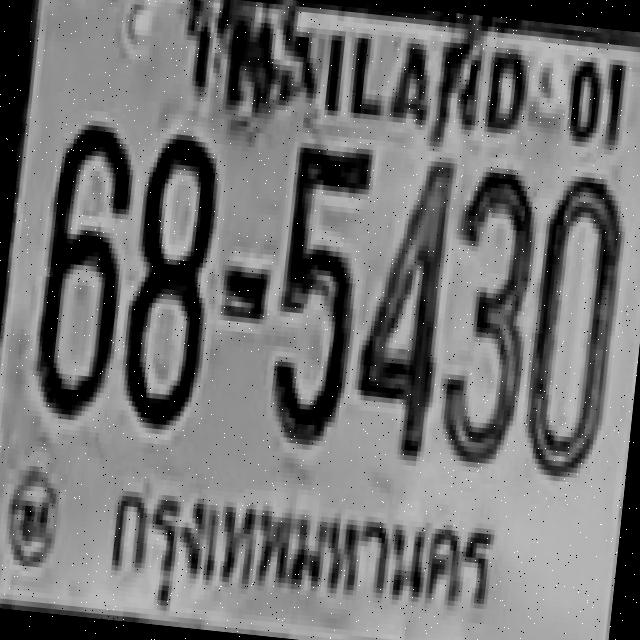0: (518, 170, 628, 482)
3: (432, 164, 542, 466)
4: (346, 150, 456, 457)
5: (263, 136, 373, 443)
6: (29, 116, 138, 418)
8: (116, 126, 222, 427)
Bangkok: (85, 454, 513, 640)
